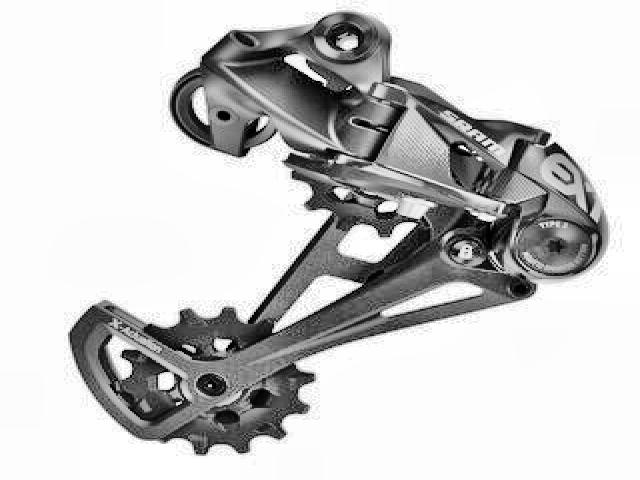rear_derailleur: (58, 8, 612, 459)
